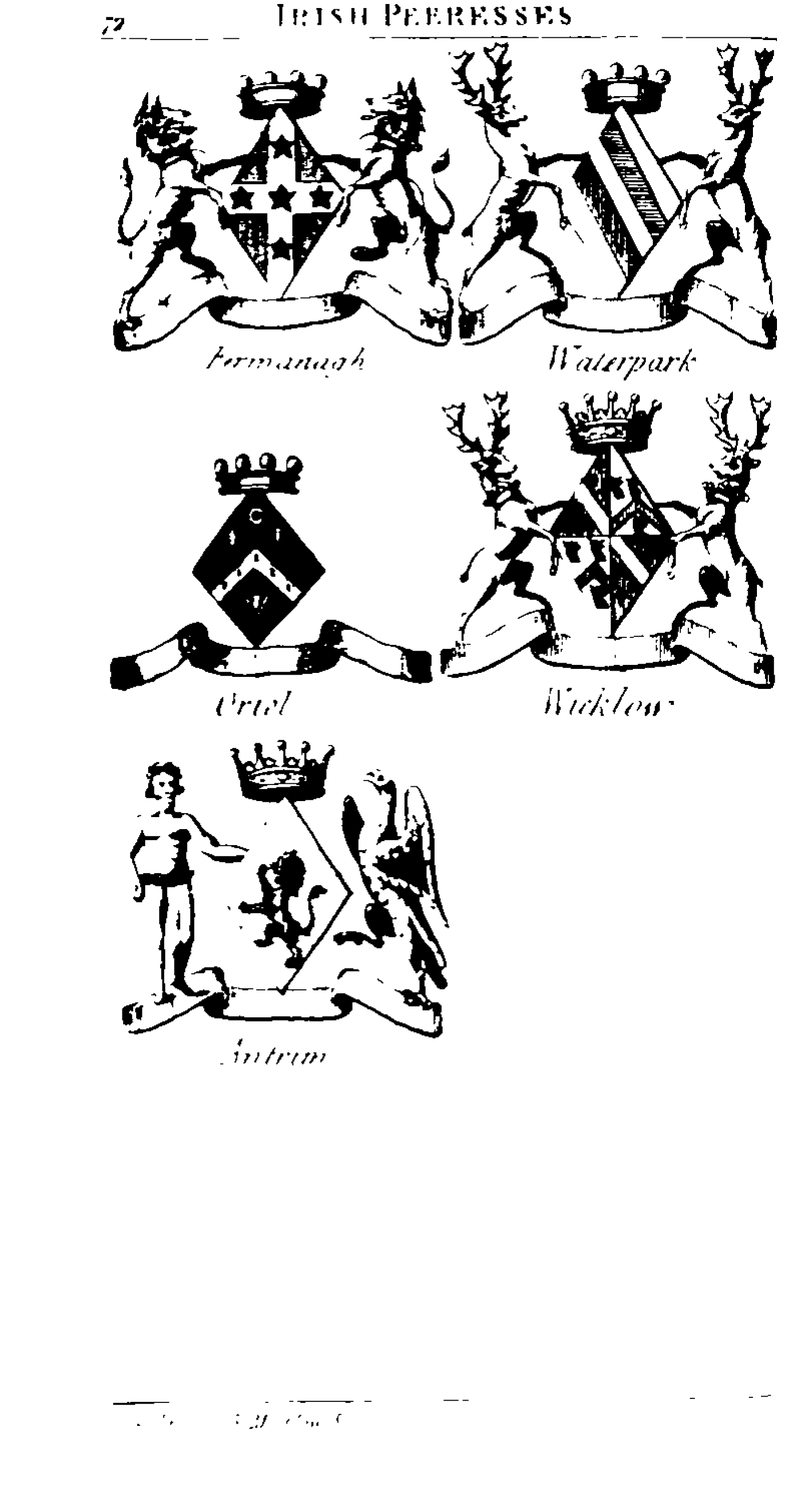coat_of_arms: (96, 721, 468, 1091), (89, 46, 459, 407), (428, 382, 790, 740), (445, 46, 780, 386), (105, 426, 429, 714)
